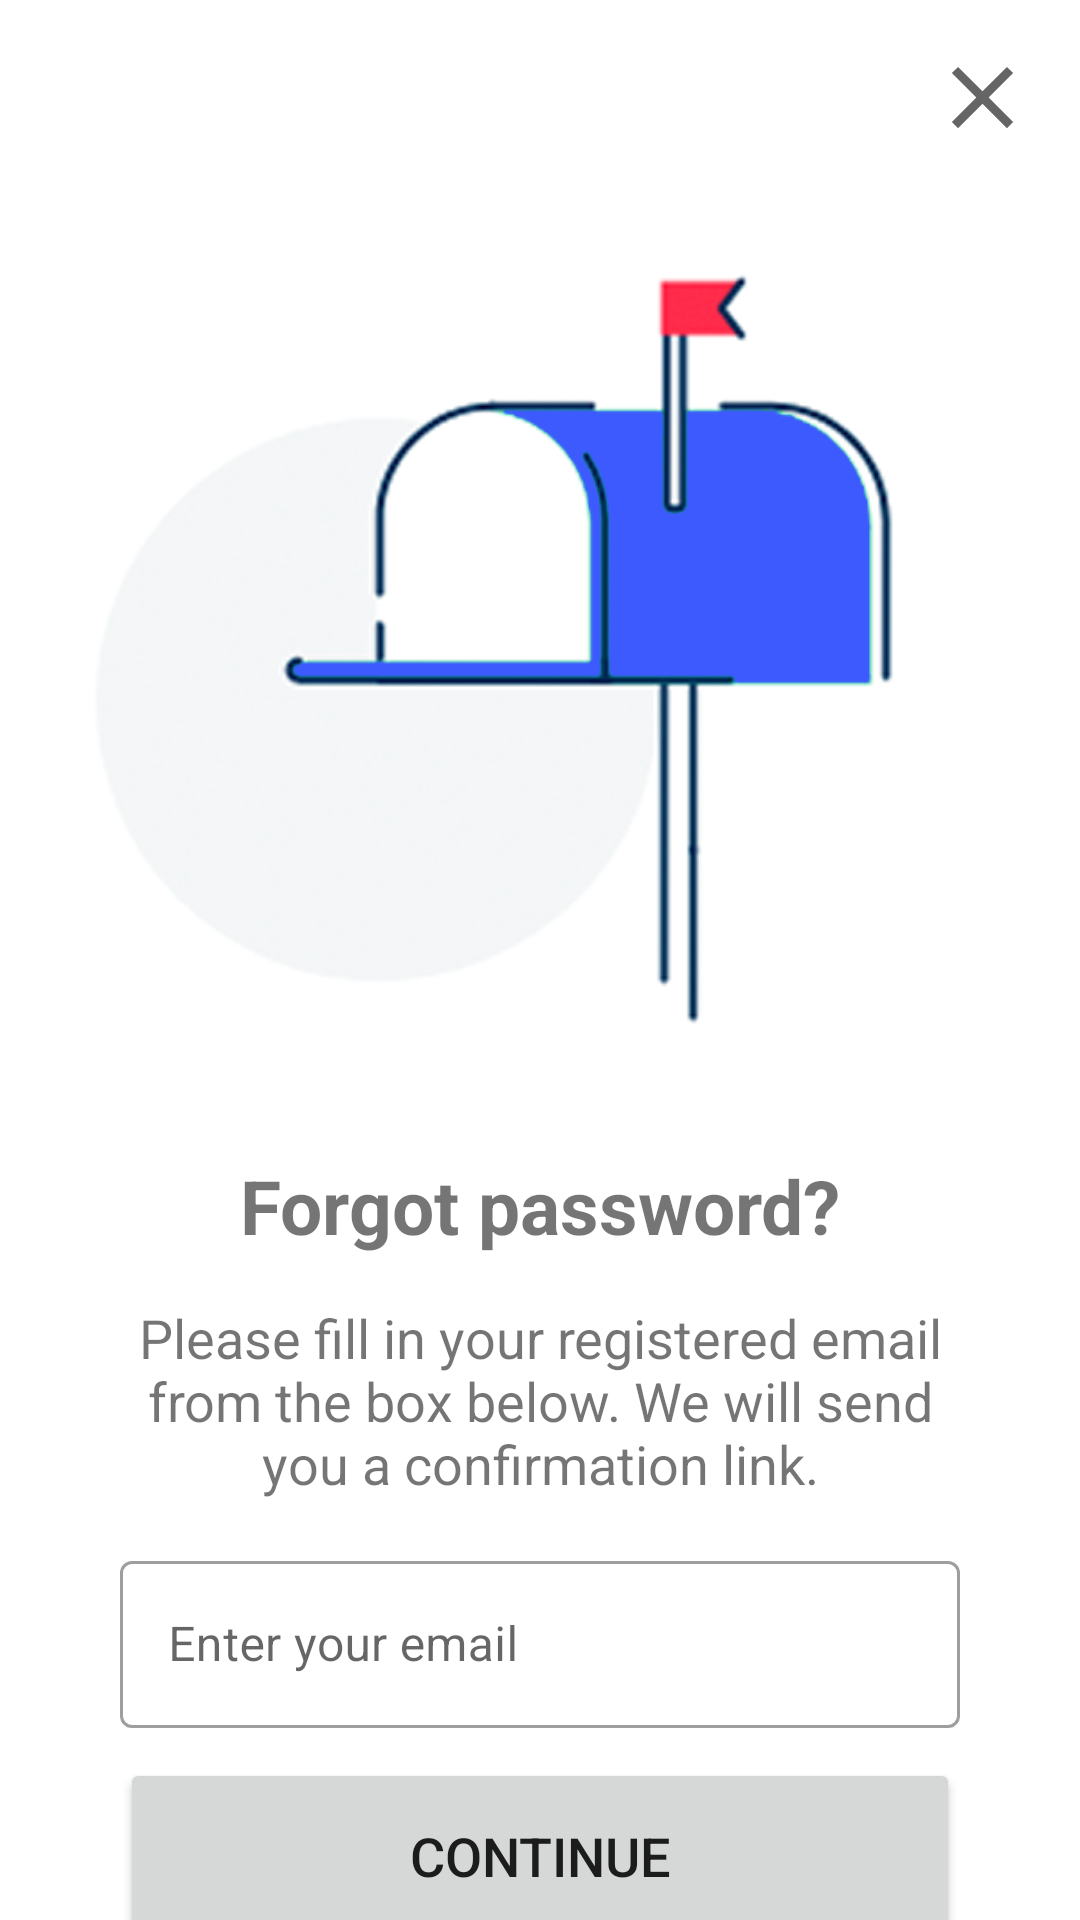

Point at icon controls on the screen. Image size 1080*1920, points as (x=x, y=y).
close: (x=982, y=97)
